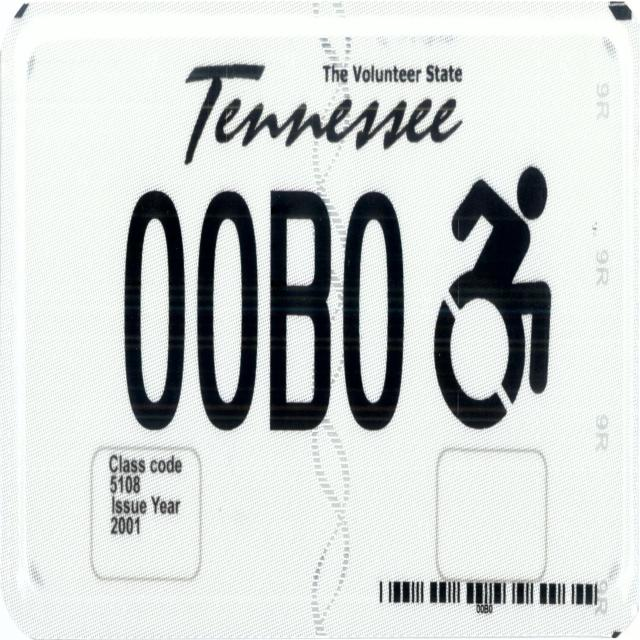symbol_of_access: (434, 162, 556, 429)
